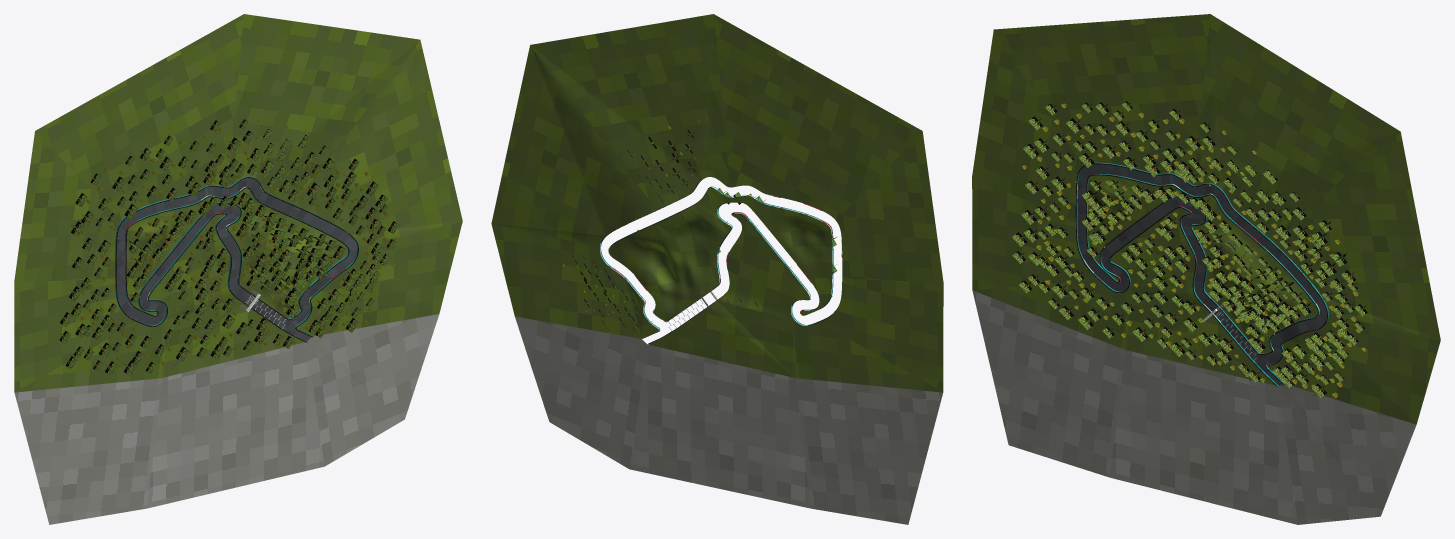
The picture shows the model from 3 angles, left to right: view 1: azimuth 30°, elevation 25°; view 2: azimuth 150°, elevation 25°; view 3: azimuth 330°, elevation 25°; orthographic projection. The views are drawn at different scales.
Visible parts, largest first — view 1: Object_11, Object_6, Object_9, Object_4, Object_12, Object_10, Object_13, Object_5; view 2: Object_11, Object_6, Object_12, Object_9, Object_5, Object_13; view 3: Object_11, Object_6, Object_9, Object_4, Object_12, Object_10, Object_13, Object_5.
Part boxes in pixels (x1,y1,x2,y2): Object_11: [14, 14, 462, 392]; Object_6: [14, 314, 439, 524]; Object_9: [59, 119, 399, 376]; Object_4: [116, 178, 357, 341]; Object_12: [126, 188, 347, 318]; Object_10: [66, 119, 395, 366]; Object_13: [116, 177, 358, 342]; Object_5: [115, 176, 358, 341]; Object_11: [491, 14, 943, 392]; Object_6: [515, 316, 942, 524]; Object_12: [608, 187, 832, 321]; Object_9: [572, 130, 837, 332]; Object_5: [600, 181, 833, 343]; Object_13: [601, 177, 835, 343]; Object_11: [972, 14, 1440, 424]; Object_6: [972, 290, 1416, 524]; Object_9: [1012, 101, 1367, 397]; Object_4: [1077, 164, 1327, 385]; Object_12: [1088, 175, 1317, 353]; Object_10: [1022, 103, 1365, 397]; Object_13: [1075, 163, 1327, 386]; Object_5: [1076, 162, 1328, 386].
Bounding box in the file's own units: 292 × 294 × 14.58.
Materials: 12 (11 with a texture image).
